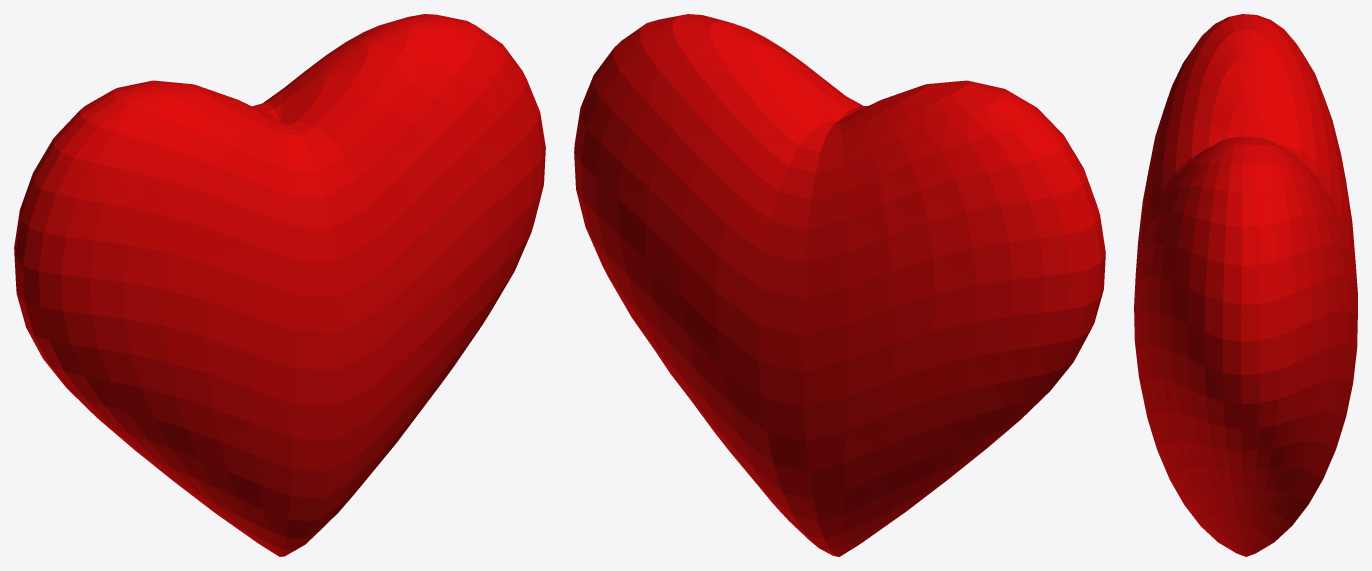
Rendered from heart.obj.
3 renders of one model, left to right at view 1: azimuth 30°, elevation 25°; view 2: azimuth 150°, elevation 25°; view 3: azimuth 270°, elevation 25°, orthographic. The views are drawn at different scales.
Visible parts, largest first — view 1: Heart; view 2: Heart; view 3: Heart.
Part boxes in pixels (x1,y1,x2,y2): Heart: [14, 14, 545, 556]; Heart: [574, 14, 1105, 556]; Heart: [1134, 14, 1357, 556].
Size of the model in its own units: 14.97 by 13.85 by 5.98.
Materials: 1 (1 with a texture image).
